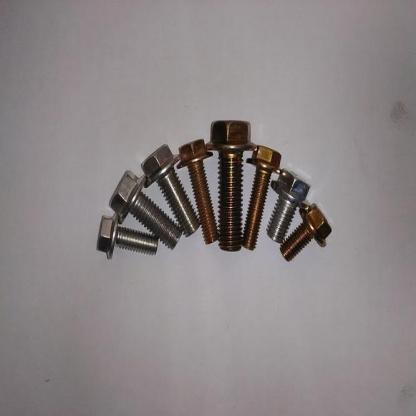FOD: (206, 117, 257, 257), (106, 168, 183, 250), (137, 141, 201, 238), (175, 138, 222, 244), (242, 144, 280, 251), (263, 168, 311, 246), (278, 200, 333, 263), (95, 212, 159, 262)
